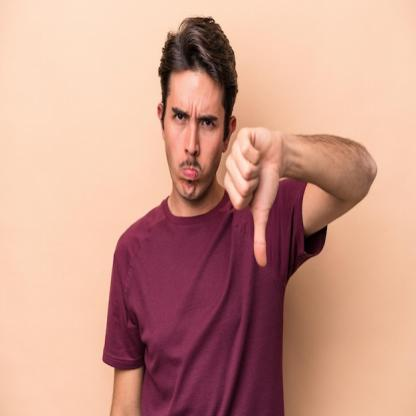thumb_down: (221, 124, 282, 270)
